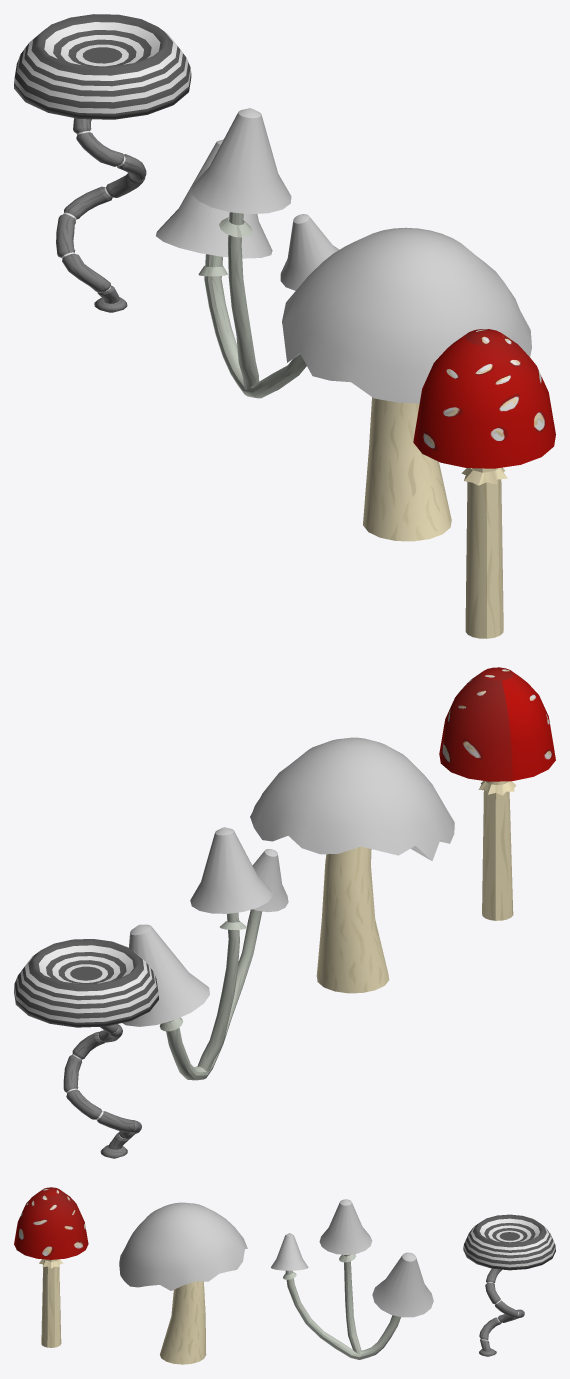
The model's file is GameMuhsrooms.fbx.
3 renders of one model, top to bottom at view 1: azimuth 30°, elevation 25°; view 2: azimuth 150°, elevation 25°; view 3: azimuth 270°, elevation 25°, orthographic. The views are drawn at different scales.
Visible parts, largest first — view 1: Sphere, Cylinder.001, Cylinder.007, Cylinder.009, Cylinder.002, Plane.016; view 2: Sphere, Cylinder.001, Cylinder.007, Cylinder.009, Cylinder.002, Plane.016; view 3: Sphere, Cylinder.007, Cylinder.001, Cylinder.009, Cylinder.002, Plane.016.
Part boxes in pixels (x1=…): Sphere: x1=282, y1=227, x2=531, y2=403; Cylinder.001: x1=413, y1=329, x2=555, y2=638; Cylinder.007: x1=156, y1=108, x2=339, y2=398; Cylinder.009: x1=14, y1=14, x2=191, y2=119; Cylinder.002: x1=363, y1=397, x2=451, y2=541; Plane.016: x1=56, y1=118, x2=146, y2=312; Sphere: x1=250, y1=737, x2=454, y2=860; Cylinder.001: x1=439, y1=667, x2=555, y2=920; Cylinder.007: x1=122, y1=827, x2=288, y2=1080; Cylinder.009: x1=14, y1=939, x2=158, y2=1027; Cylinder.002: x1=316, y1=846, x2=389, y2=993; Plane.016: x1=63, y1=1024, x2=141, y2=1158; Sphere: x1=119, y1=1202, x2=247, y2=1290; Cylinder.007: x1=271, y1=1199, x2=433, y2=1359; Cylinder.001: x1=14, y1=1187, x2=88, y2=1347; Cylinder.009: x1=463, y1=1214, x2=555, y2=1270; Cylinder.002: x1=160, y1=1281, x2=206, y2=1364; Plane.016: x1=479, y1=1268, x2=524, y2=1356.
Bounding box in the file's own units: 45.64 × 59.64 × 187.
